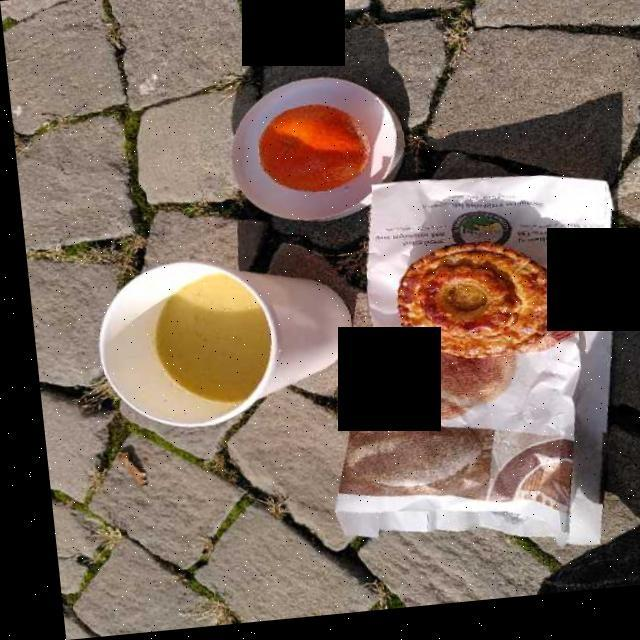mandarine: (255, 113, 363, 195)
soup: (154, 284, 256, 392)
